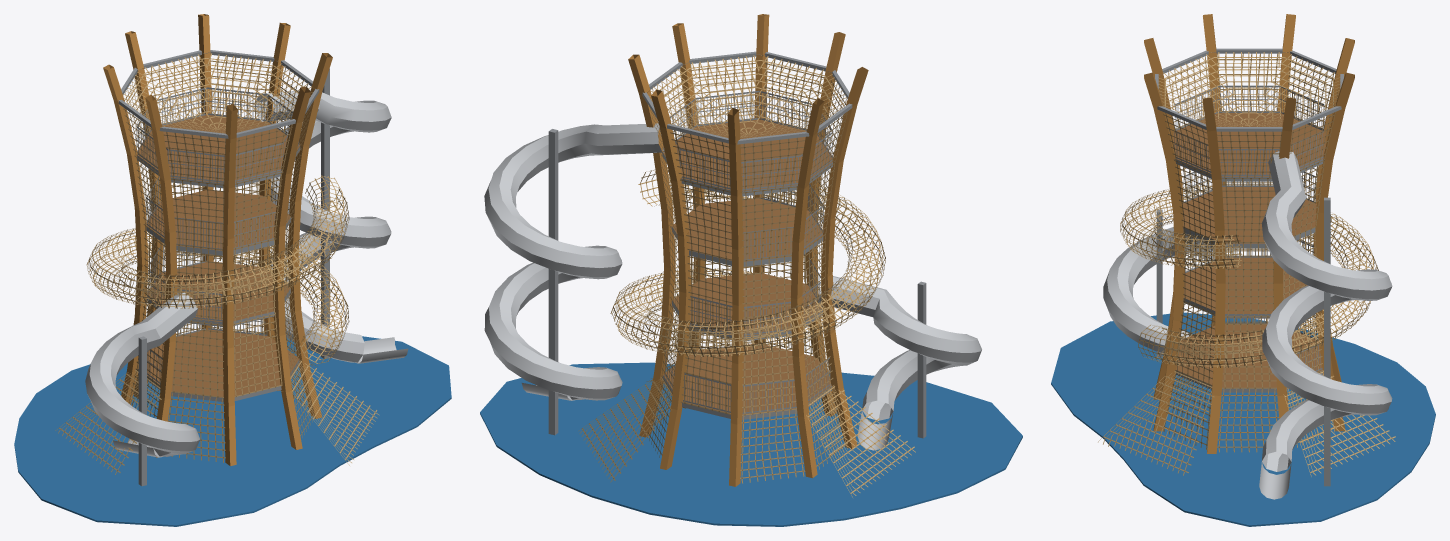
File: maggie_net_tower.glb
3 renders of one model, left to right at view 1: azimuth 30°, elevation 25°; view 2: azimuth 150°, elevation 25°; view 3: azimuth 270°, elevation 25°, orthographic. The views are drawn at different scales.
Visible parts, largest first — view 1: maggie_net_tower; view 2: maggie_net_tower; view 3: maggie_net_tower.
Boxes of the visible parts, box(x1,y1,x2,y2) form: maggie_net_tower: box(14, 14, 451, 526); maggie_net_tower: box(480, 14, 1022, 526); maggie_net_tower: box(1051, 14, 1435, 526).
Size of the model in its own units: 16.86 by 13.3 by 12.86.
Materials: 3 (3 with a texture image).
